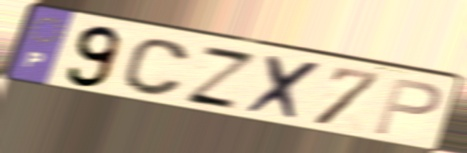7: (314, 64, 384, 128)
9: (62, 24, 127, 91)
C: (118, 37, 193, 99)
P: (371, 75, 445, 138)
X: (242, 52, 326, 125)
Z: (180, 43, 261, 113)
